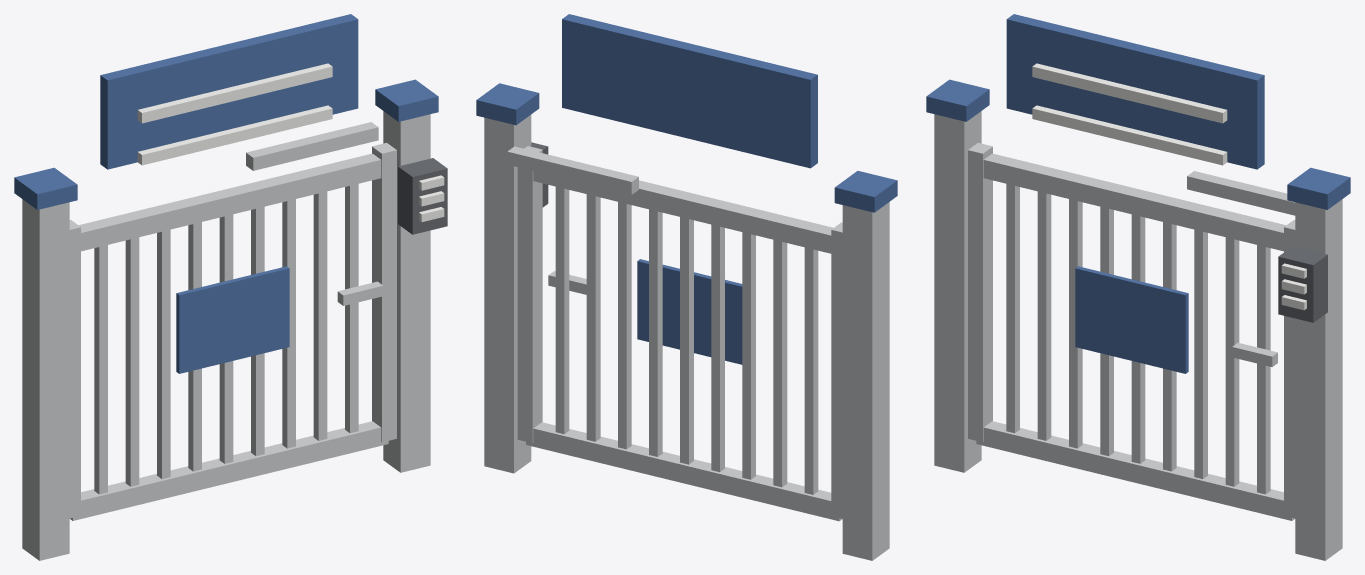
File: marina-and-yacht-club-marina-and-yacht-club-pontoon-ga-9eaf2ed6__38288.glb
The picture shows the model from 3 angles, left to right: view 1: azimuth 30°, elevation 25°; view 2: azimuth 150°, elevation 25°; view 3: azimuth 330°, elevation 25°; orthographic projection.
Parts seen in each view (by area): view 1: marina-and-yacht-club-pontoon-gate-with-keypad, gate-leaf/steel (×14), gate-leaf/navy; view 2: marina-and-yacht-club-pontoon-gate-with-keypad, gate-leaf/steel (×13), gate-leaf/navy; view 3: marina-and-yacht-club-pontoon-gate-with-keypad, gate-leaf/steel (×14), gate-leaf/navy.
Boxes of the visible parts, <box> form: marina-and-yacht-club-pontoon-gate-with-keypad: <box>14,14,447,560</box>; gate-leaf/steel (×14): <box>69,142,396,520</box>; gate-leaf/navy: <box>176,266,289,373</box>; marina-and-yacht-club-pontoon-gate-with-keypad: <box>476,14,897,560</box>; gate-leaf/steel (×13): <box>517,146,842,521</box>; gate-leaf/navy: <box>637,259,742,364</box>; marina-and-yacht-club-pontoon-gate-with-keypad: <box>926,14,1350,560</box>; gate-leaf/steel (×14): <box>968,142,1295,520</box>; gate-leaf/navy: <box>1075,266,1188,373</box>.
Size of the model in its own units: 1.6 by 1.76 by 0.305.
